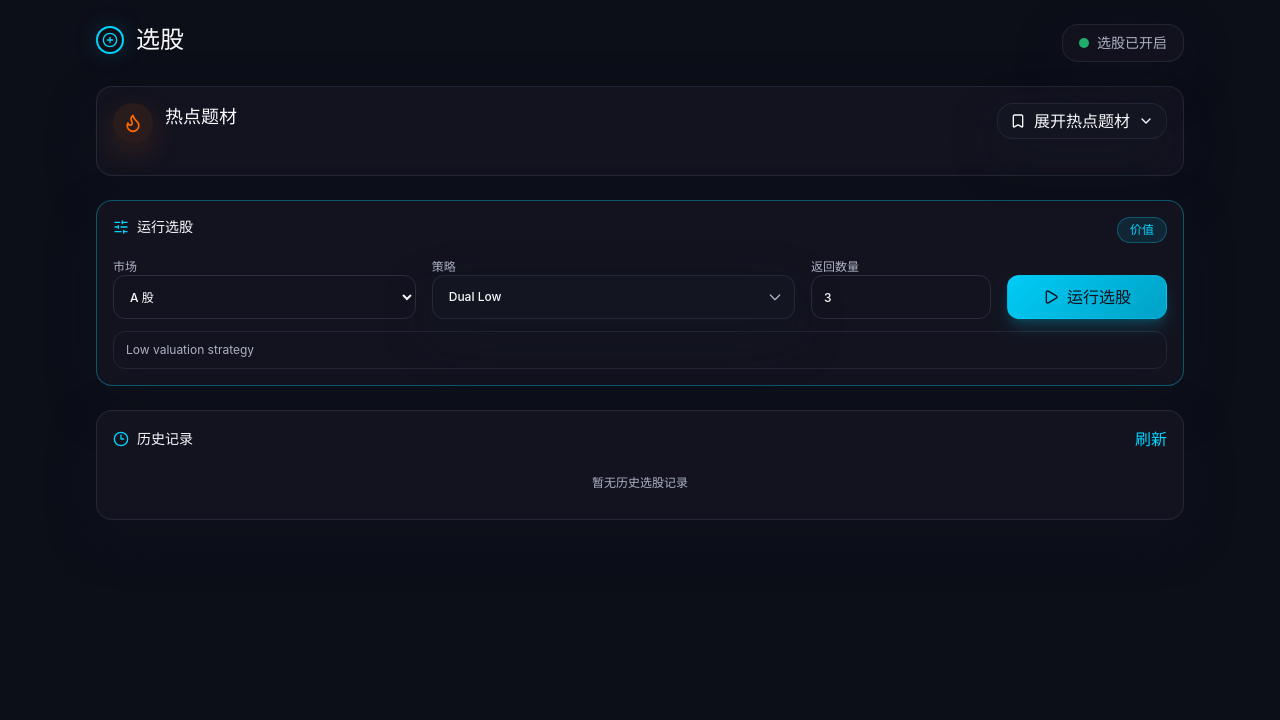
Test: StockScreeningPage › shows backend hotspot empty message before raw source diagnostics
Click the button "展开热点题材" at (1082, 121), box [997,103,1167,139]
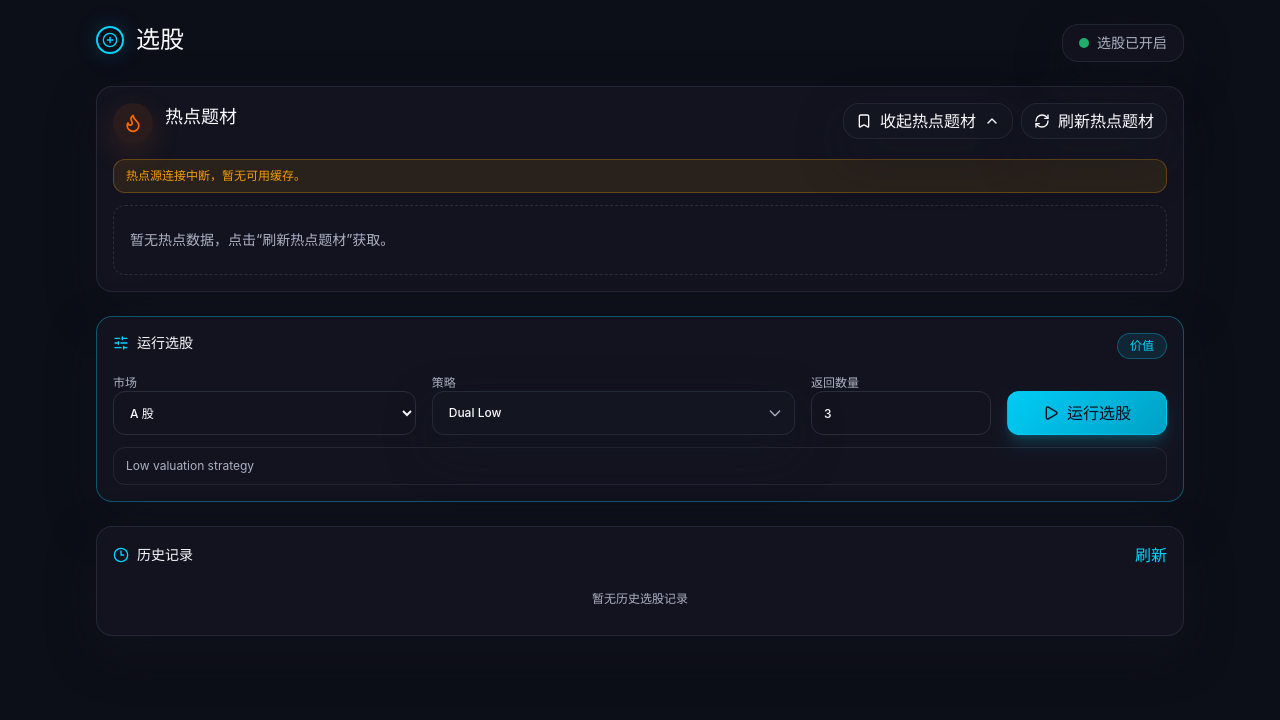
Check: the text "热点源连接中断，暂无可用缓存。" is shown, box [113,159,1167,193]
